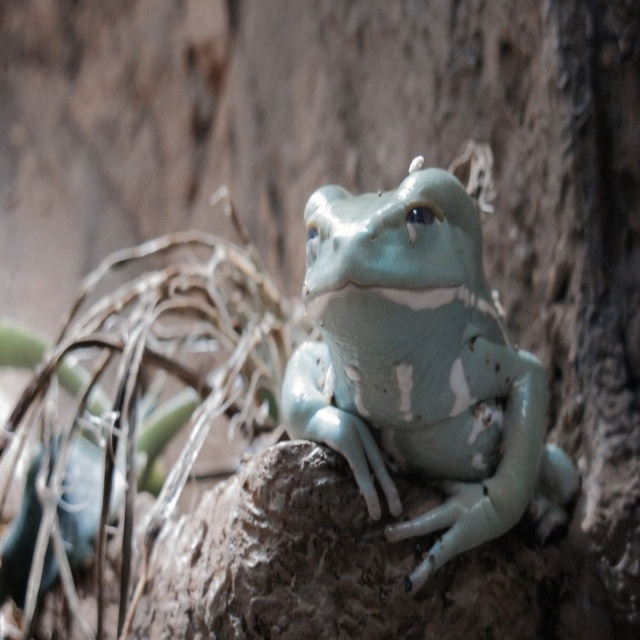Frog: (276, 162, 584, 596)
